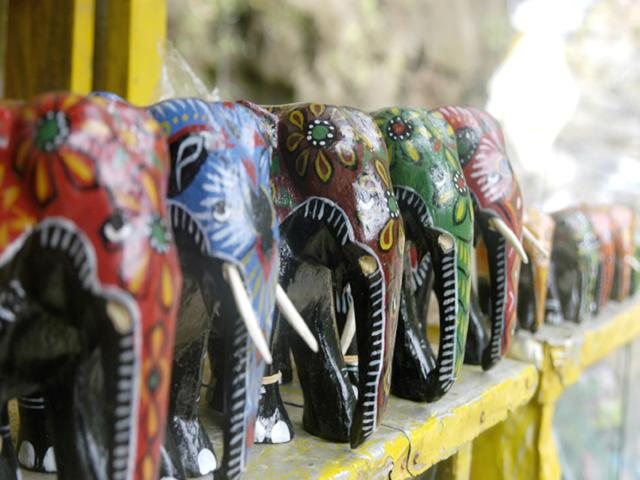elephant: (250, 92, 400, 447), (39, 85, 178, 464)
